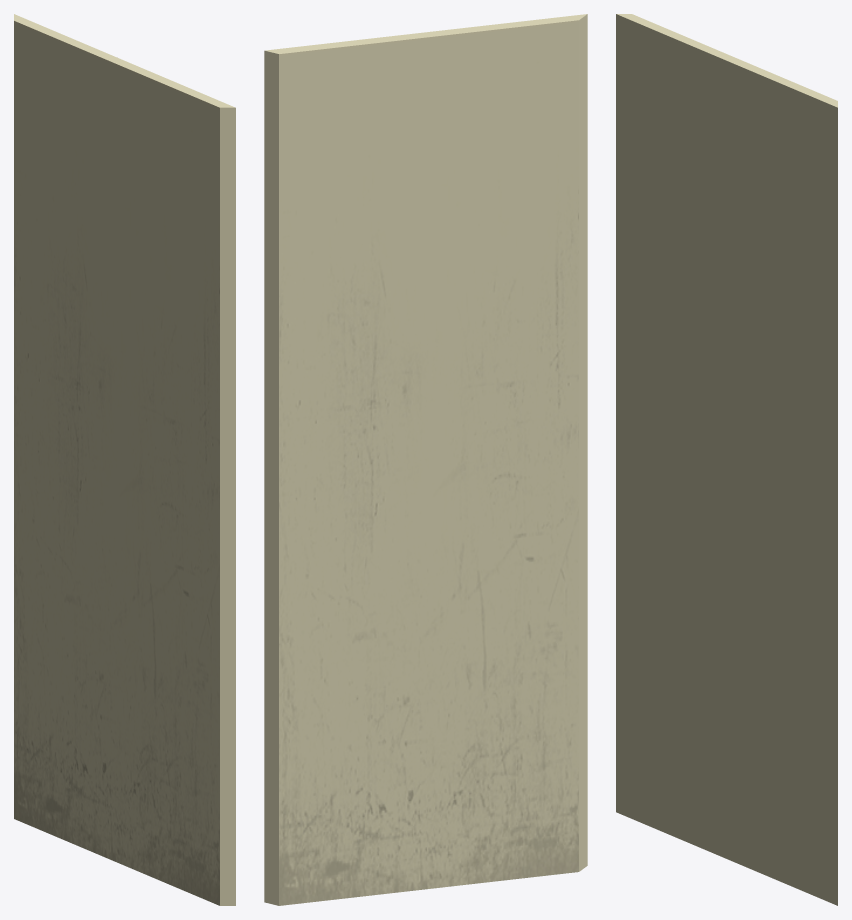
File: fbx_hamburger_wall3.fbx
The picture shows the model from 3 angles, left to right: view 1: azimuth 90°, elevation 25°; view 2: azimuth 150°, elevation 25°; view 3: azimuth 270°, elevation 25°; orthographic projection. The views are drawn at different scales.
Visible parts, largest first — view 1: fbx_hamburger_wall3; view 2: fbx_hamburger_wall3; view 3: fbx_hamburger_wall3.
Part boxes in pixels (x1,y1,x2,y2): fbx_hamburger_wall3: (14,14,235,905); fbx_hamburger_wall3: (264,14,587,905); fbx_hamburger_wall3: (616,14,837,905).
Bounding box in the file's own units: 1.32 × 5.26 × 1.32.
1 material, 1 textured.
